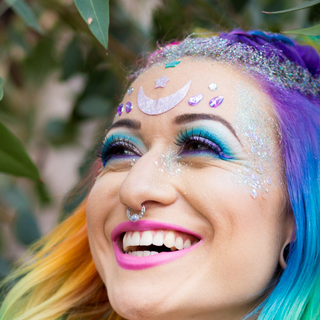eye: (175, 134, 227, 161), (94, 138, 142, 164)
